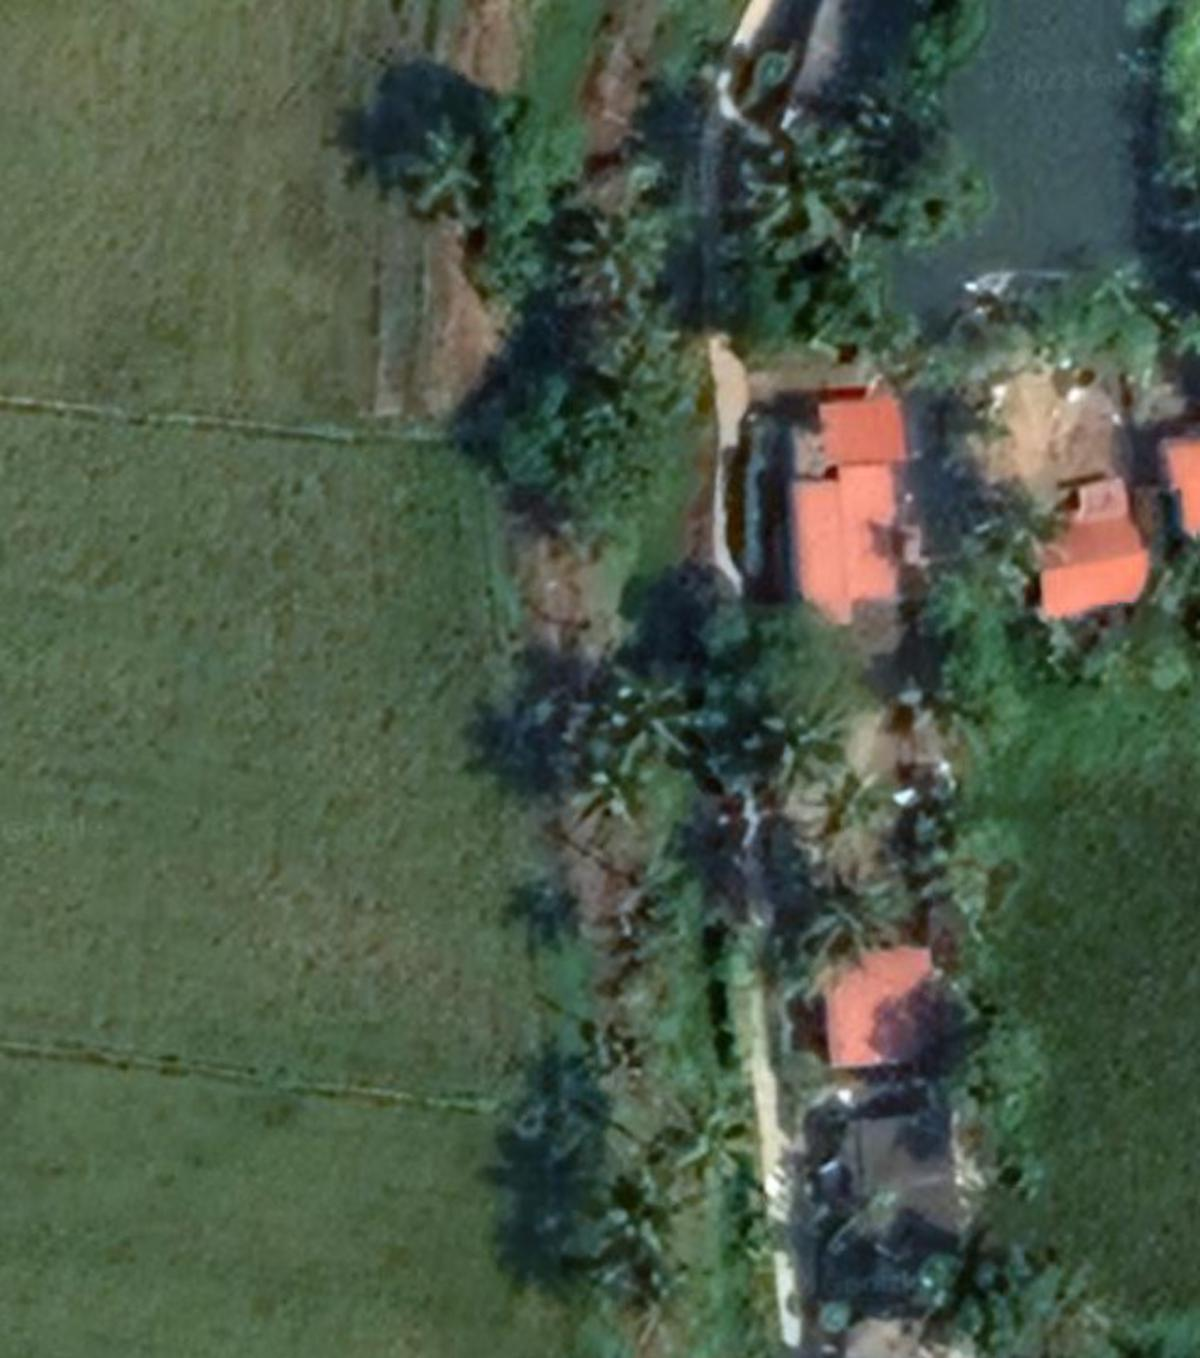coconut: (729, 107, 894, 261), (374, 107, 497, 242), (575, 659, 707, 777), (551, 209, 678, 331), (744, 706, 866, 813), (638, 1096, 762, 1177), (796, 873, 902, 962), (619, 1246, 717, 1335)
